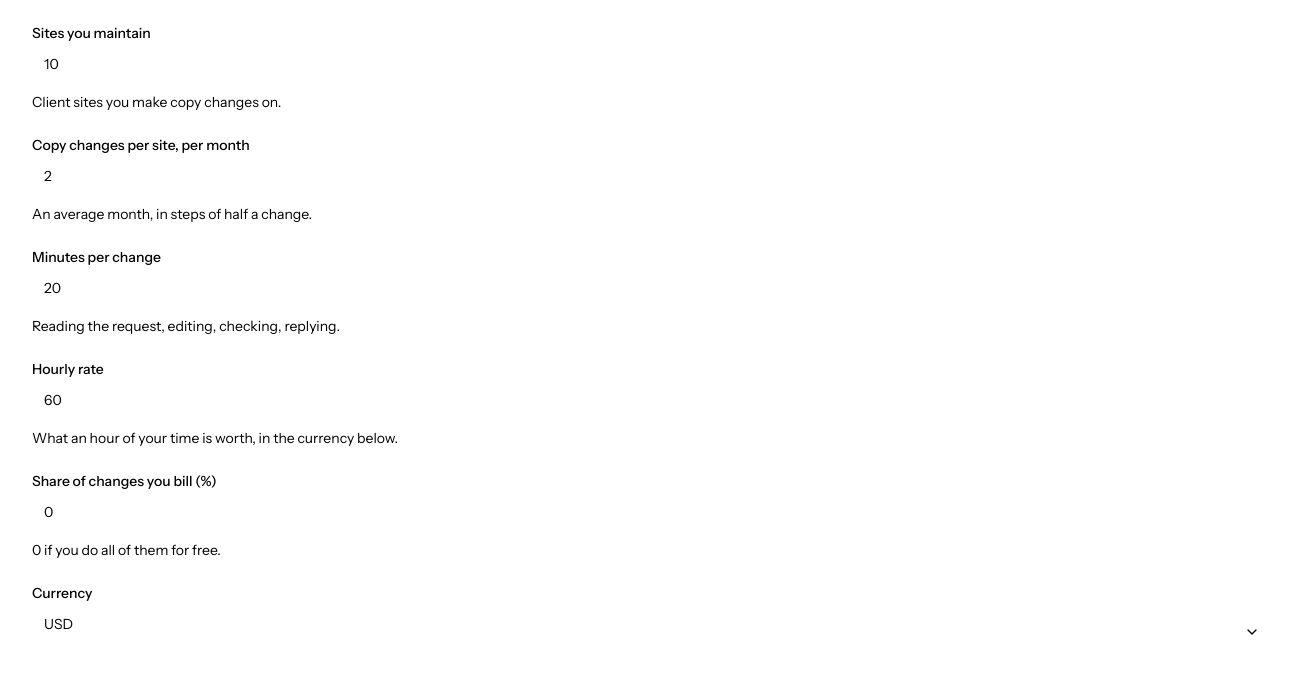
Test: CostCalculator › updates the result and the live region as the visitor types
Replace the text in the number field labelled "Sites you maintain" with "12": (652, 64) 32,44 -> 1272,84
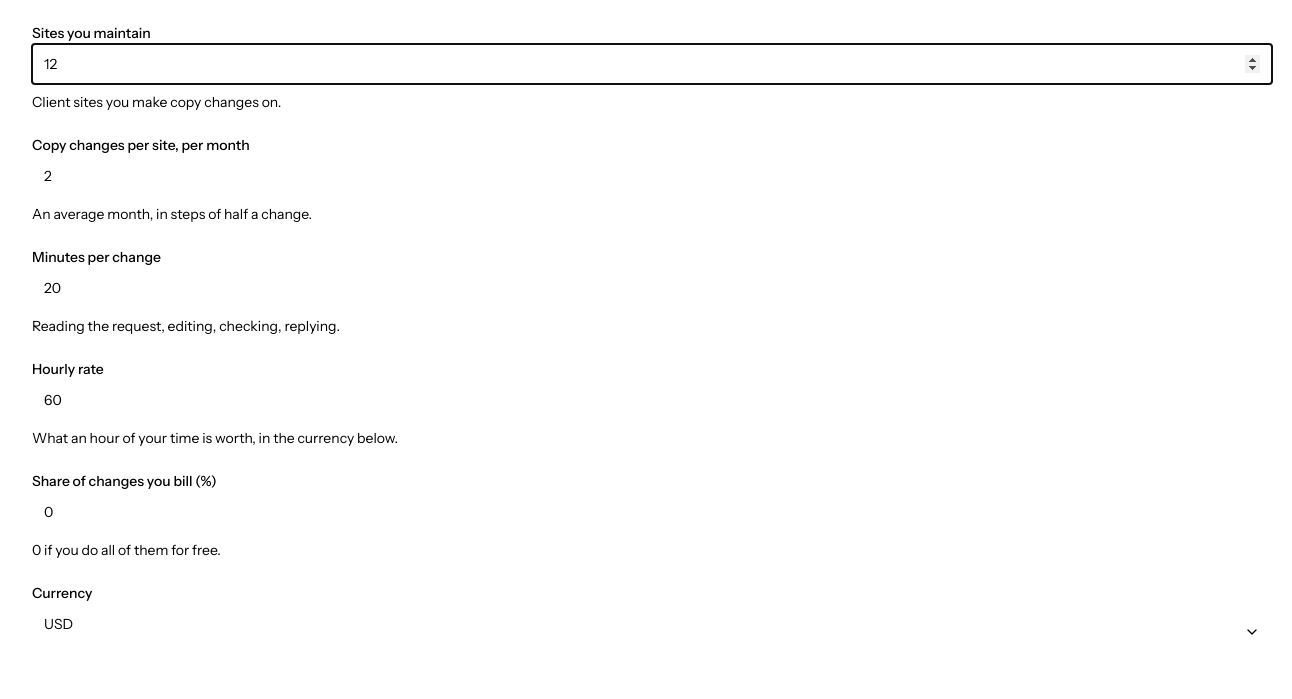
Replace the text in the number field labelled "Copy changes per site, per month" with "3": (652, 176) 32,156 -> 1272,196
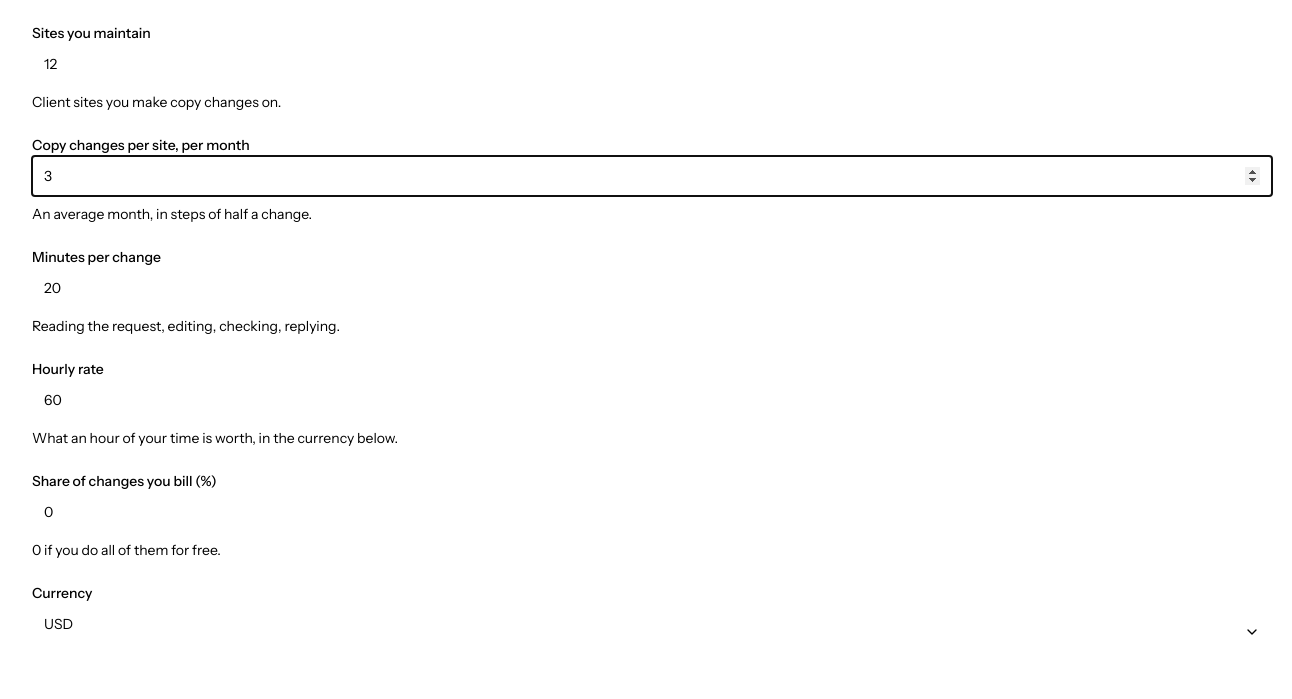
Select "EUR" in the dropdown labelled "Currency": (652, 624) 32,604 -> 1272,644
Wait 500 ms
(page scrolled)
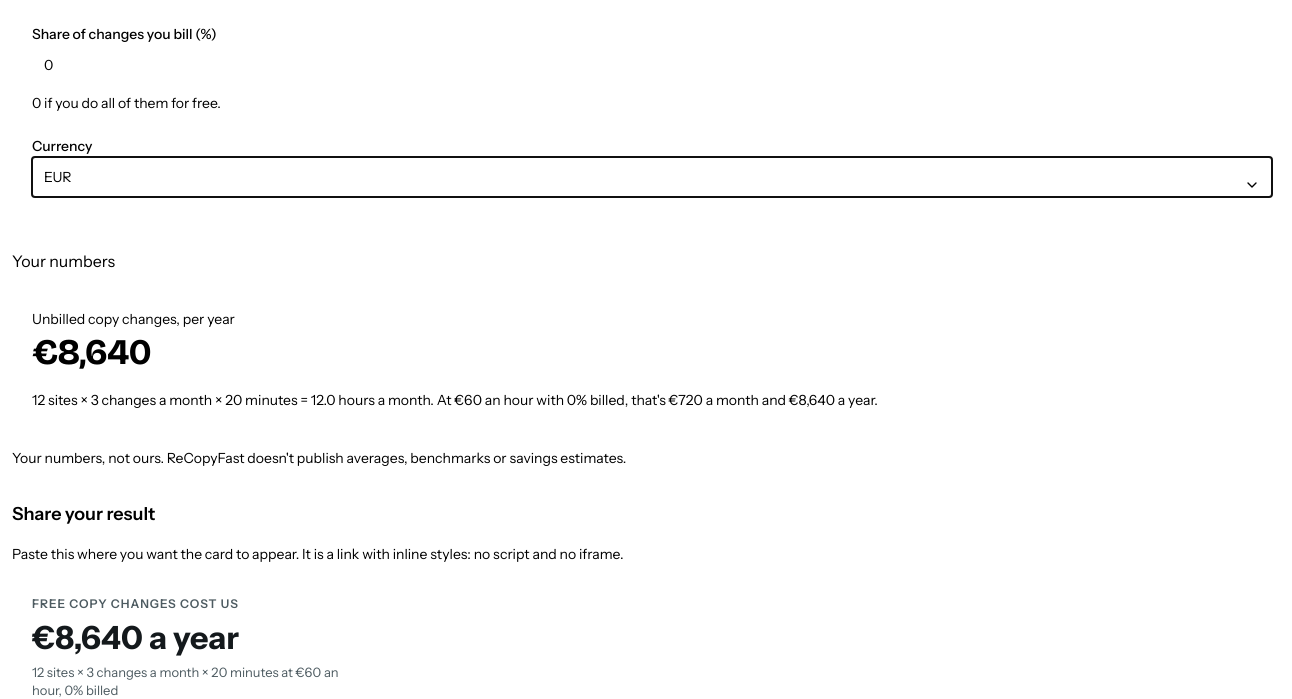
Check: the element with test id "result-panel" shows "12 sites × 3 changes a month × 20 minutes = 12.0 hours a month.", box 32,391 -> 878,409
Check: the text "€8,640" is shown, box 32,331 -> 151,374
